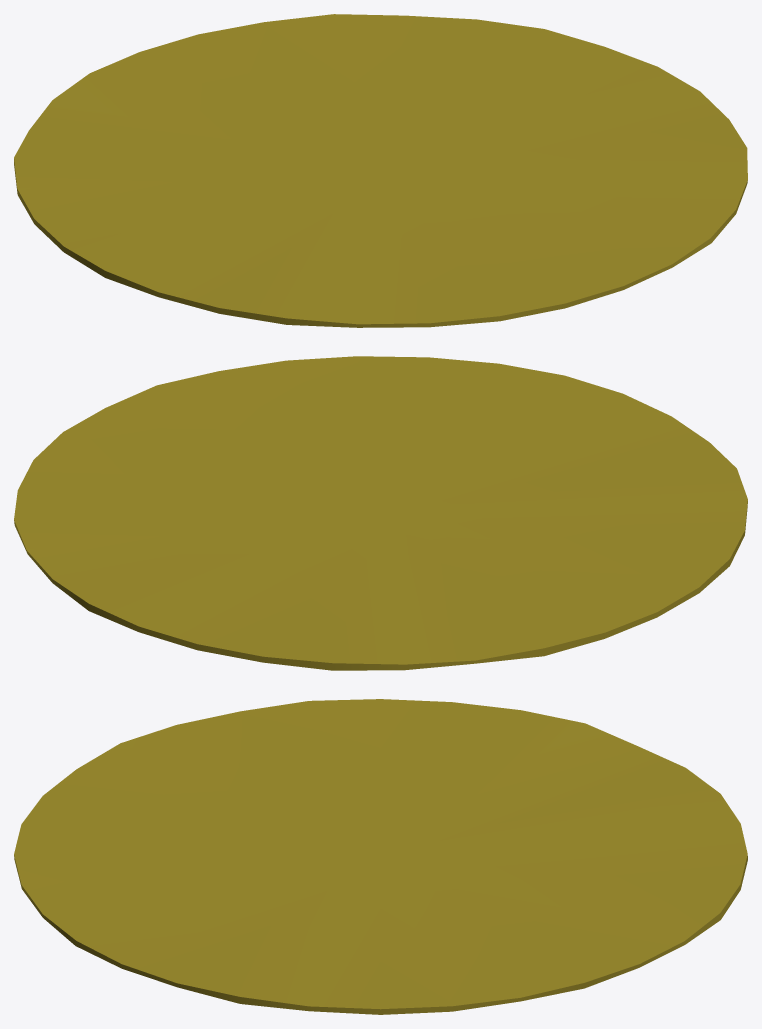
The model's file is Le-KoroPadThingy.fbx.
The picture shows the model from 3 angles, top to bottom: view 1: azimuth 30°, elevation 25°; view 2: azimuth 150°, elevation 25°; view 3: azimuth 270°, elevation 25°; orthographic projection.
Parts seen in each view (by area): view 1: Circle_020; view 2: Circle_020; view 3: Circle_020.
Boxes of the visible parts, x1,y1,x2,y2 form: Circle_020: (14, 14, 747, 327); Circle_020: (14, 356, 747, 670); Circle_020: (14, 699, 747, 1014).
Bounding box in the file's own units: 4.34 × 0.1827 × 4.34.
